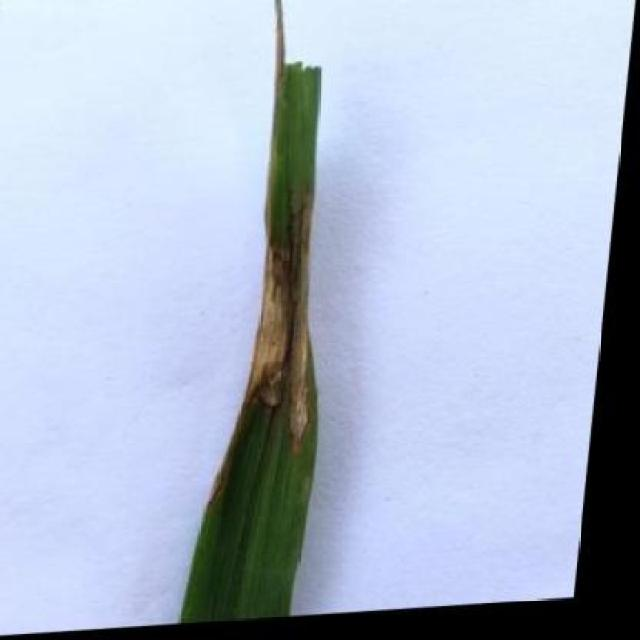Brown_Spot: (198, 0, 374, 628)
